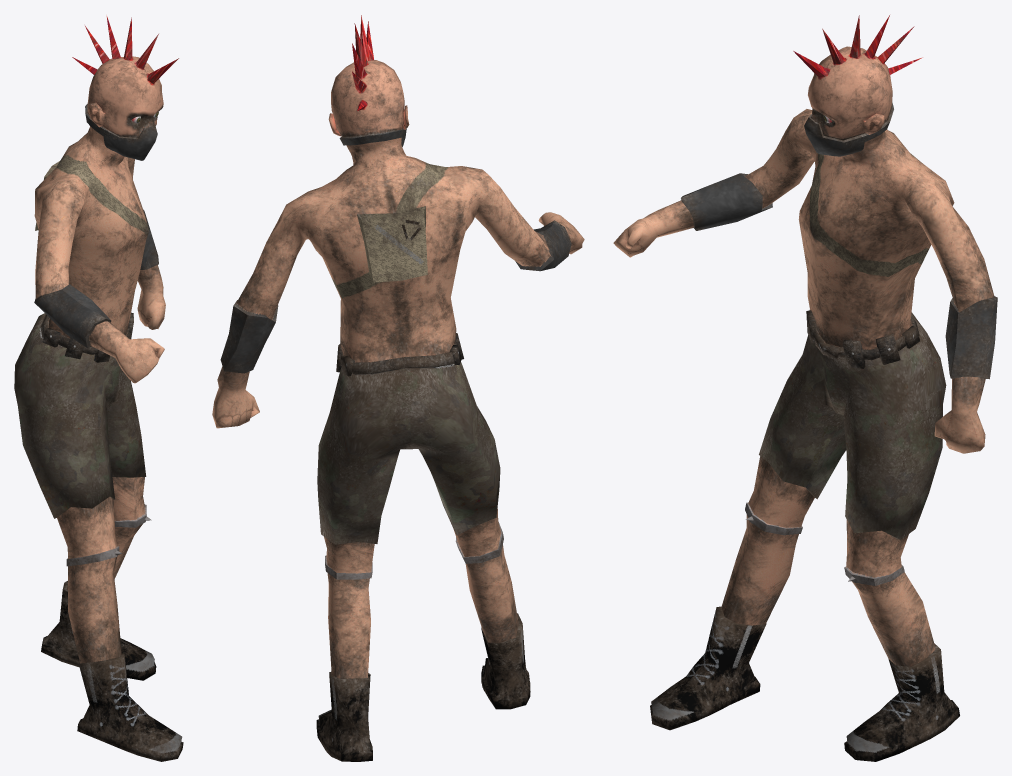
The model's file is Anim_interruptor_npc2.0031.obj.
3 renders of one model, left to right at view 1: azimuth 30°, elevation 25°; view 2: azimuth 150°, elevation 25°; view 3: azimuth 270°, elevation 25°, orthographic. The views are drawn at different scales.
Parts seen in each view (by area): view 1: polySurface1; view 2: polySurface1; view 3: polySurface1.
Part boxes in pixels (x1,y1,x2,y2): polySurface1: (14, 15, 183, 761); polySurface1: (212, 15, 584, 761); polySurface1: (613, 15, 997, 761).
Bounding box in the file's own units: 3.49 × 10.01 × 4.74.
